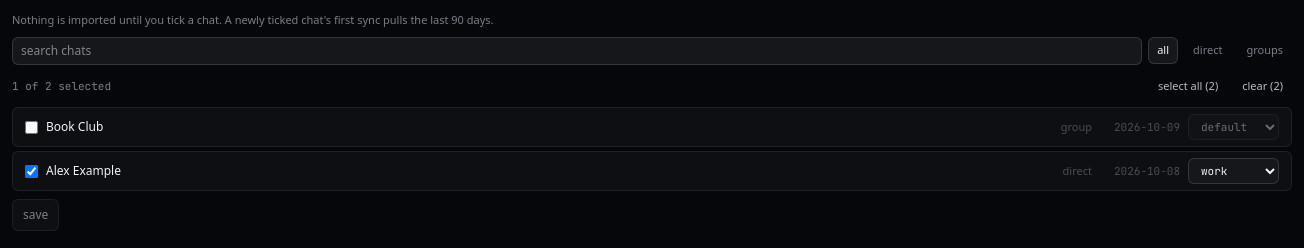
Test: WhatsAppChatPicker › lists chats and filters by search and kind
The width and height of the screenshot is (1304, 248).
Expected: the text "Book Club" is shown, [46, 118, 103, 135]
In the field with placeholder "search chats": coordinates (577, 50) [12, 36, 1142, 64], type "alex"
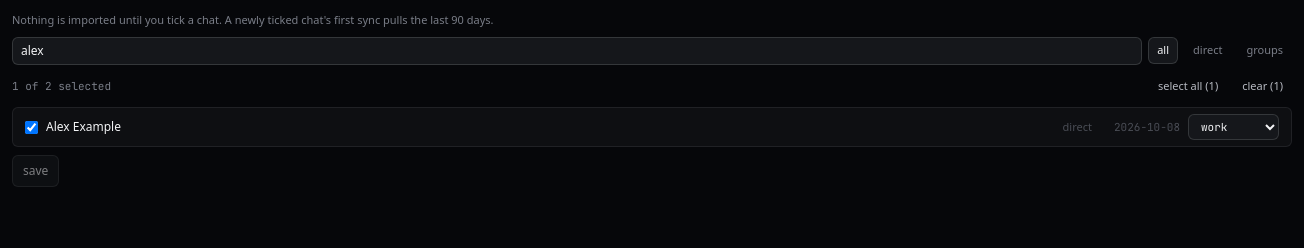
Expected: the text "Alex Example" is shown, [46, 118, 121, 135]
Expected: the text "Book Club" is gone
Clear the field with placeholder "search chats": coordinates (577, 50) [12, 36, 1142, 64]
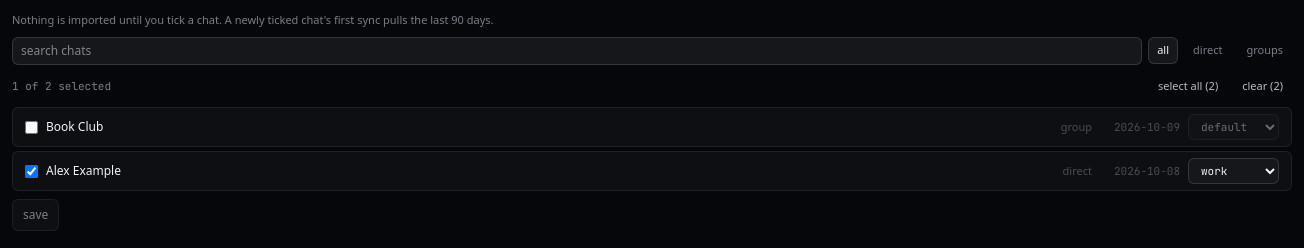
Click the button "groups": coordinates (1265, 51) [1237, 37, 1292, 64]
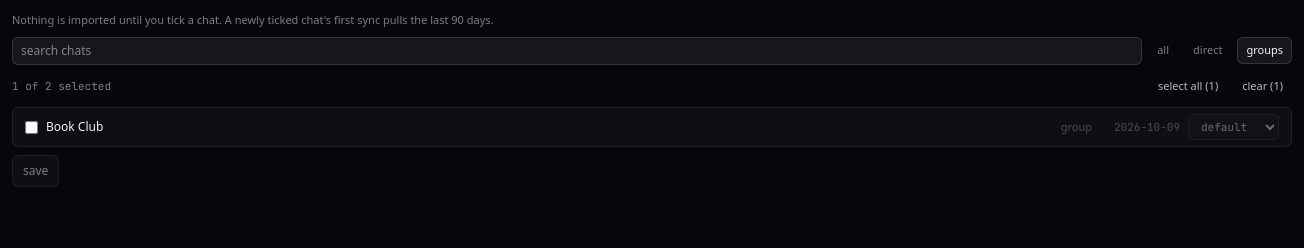
Expected: the text "Alex Example" is gone
